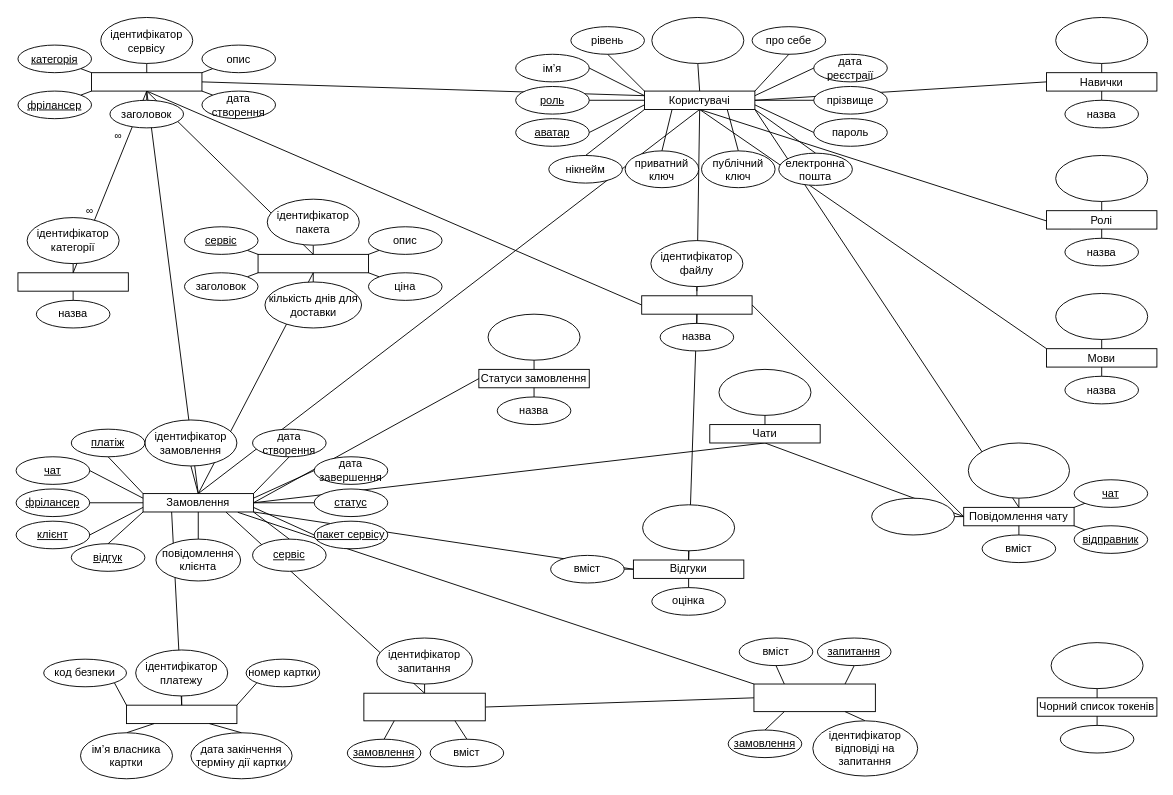
Image size: 1173x795. Some labels were removed from this diagram. Each missing label, with the box of its shape:
Відповіді на запитання замовлення: (753, 683, 875, 712)
дата і час відправлення: (871, 497, 954, 535)
Запитання на замовлення: (363, 692, 485, 721)
Категорії: (17, 272, 128, 291)
Пакети сервісів: (257, 253, 368, 273)
Платежі: (126, 704, 237, 724)
Сервіси: (91, 72, 202, 91)
токен: (1059, 724, 1134, 753)
Файли: (641, 295, 752, 314)
ідентифікатор відгуку: (642, 504, 735, 551)
ідентифікатор користувача: (651, 17, 744, 63)
ідентифікатор мови: (1055, 293, 1148, 339)
ідентифікатор навички: (1055, 17, 1148, 63)
ідентифікатор повідомлення чату: (967, 442, 1070, 498)
ідентифікатор ролі: (1055, 155, 1148, 201)
ідентифікатор статусу: (487, 313, 580, 360)
ідентифікатор токену: (1050, 642, 1143, 689)
ідентифікатор чату: (718, 368, 811, 415)
